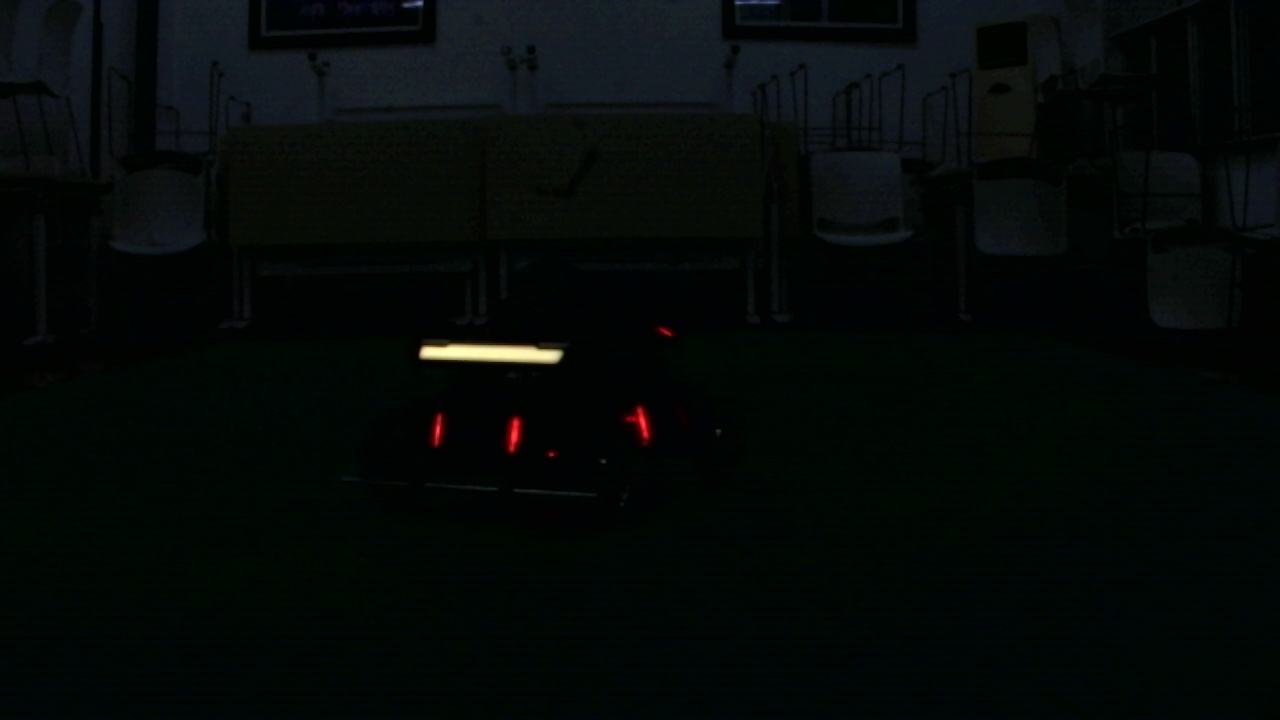lamp: (633, 402, 653, 440), (504, 413, 522, 453), (430, 413, 444, 451)
pair1: (433, 410, 522, 450)
